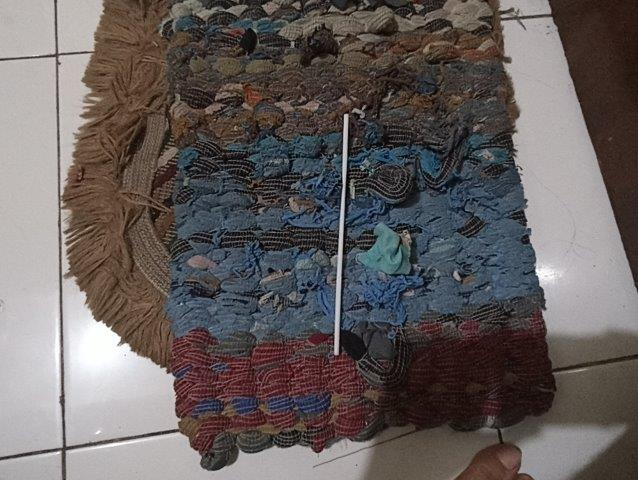sedotan: (334, 114, 349, 355)
